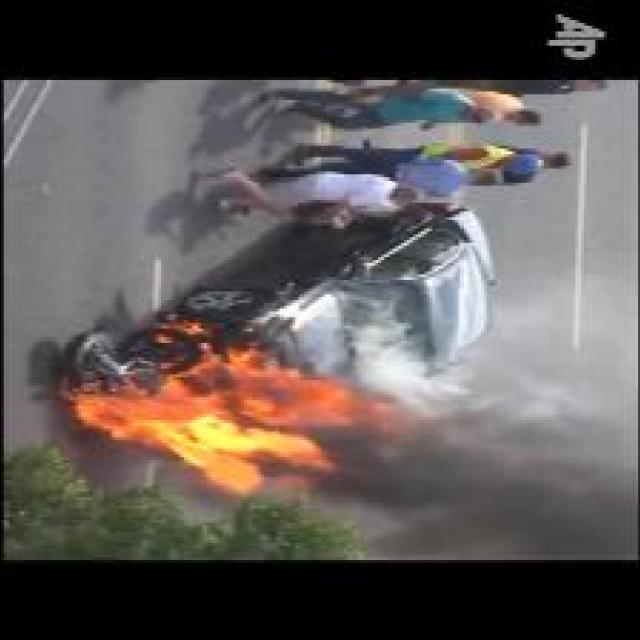Fire: (66, 344, 420, 490)
